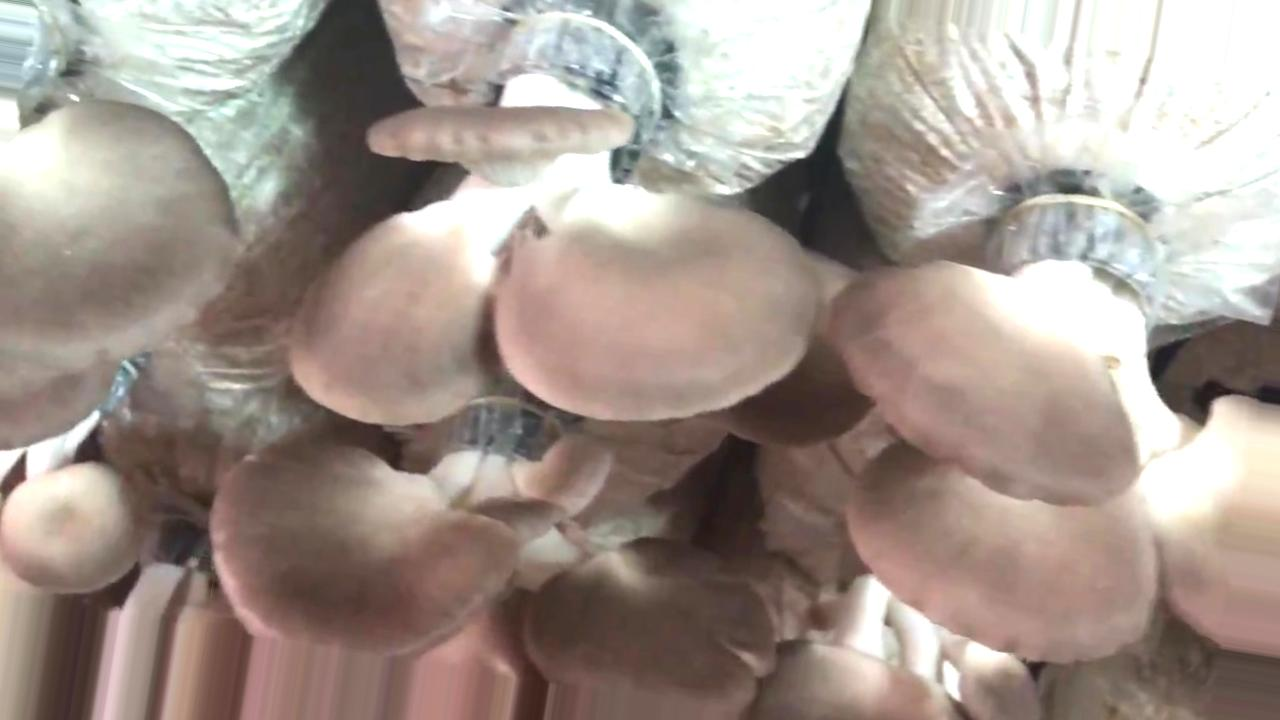nam: (290, 1, 816, 425), (831, 178, 1280, 657), (217, 395, 773, 720), (1, 102, 238, 447), (1, 345, 146, 594)
